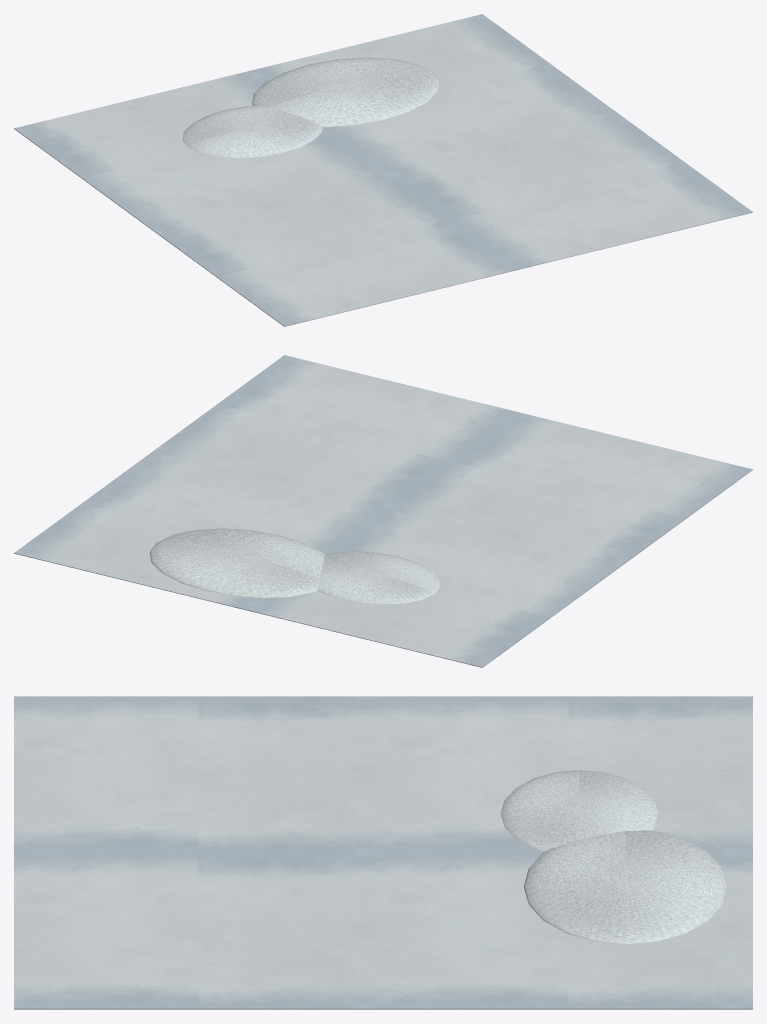
File: snowyPlains-v1.glb
3 views of the same model, one above another, from view 1: azimuth 30°, elevation 25°; view 2: azimuth 150°, elevation 25°; view 3: azimuth 270°, elevation 25° (orthographic). The views are drawn at different scales.
Visible parts, largest first — view 1: Earth gravel and wheel ruts, Distant grassy rise; view 2: Earth gravel and wheel ruts, Distant grassy rise; view 3: Earth gravel and wheel ruts, Distant grassy rise.
Boxes of the visible parts, x1,y1,x2,y2 form: Earth gravel and wheel ruts: (14, 14, 752, 326); Distant grassy rise: (183, 57, 439, 158); Earth gravel and wheel ruts: (14, 355, 752, 667); Distant grassy rise: (149, 528, 440, 604); Earth gravel and wheel ruts: (14, 696, 752, 1009); Distant grassy rise: (500, 770, 728, 944).
Bounding box in the file's own units: 64 × 2.4 × 64.
Materials: 3 (3 with a texture image).
